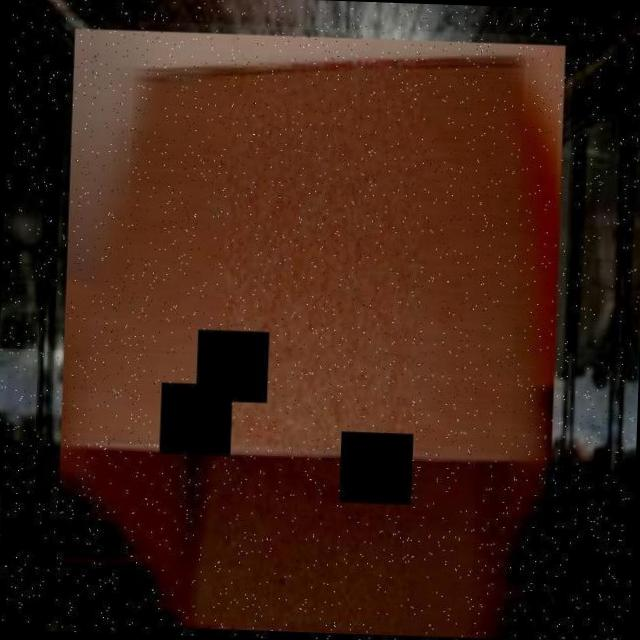box: (45, 19, 574, 640)
